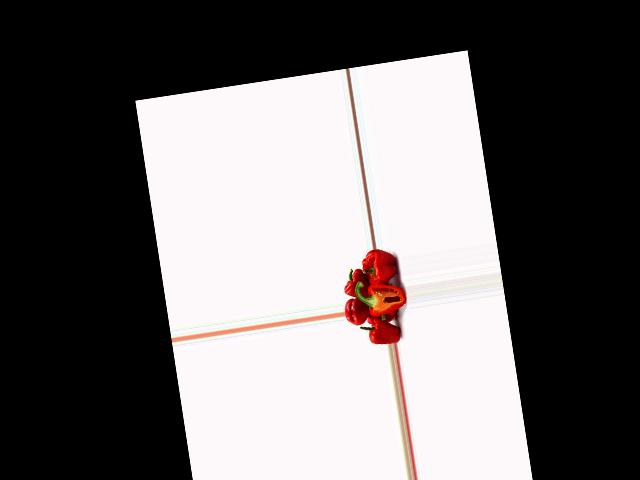bell_pepper: (341, 266, 369, 300)
